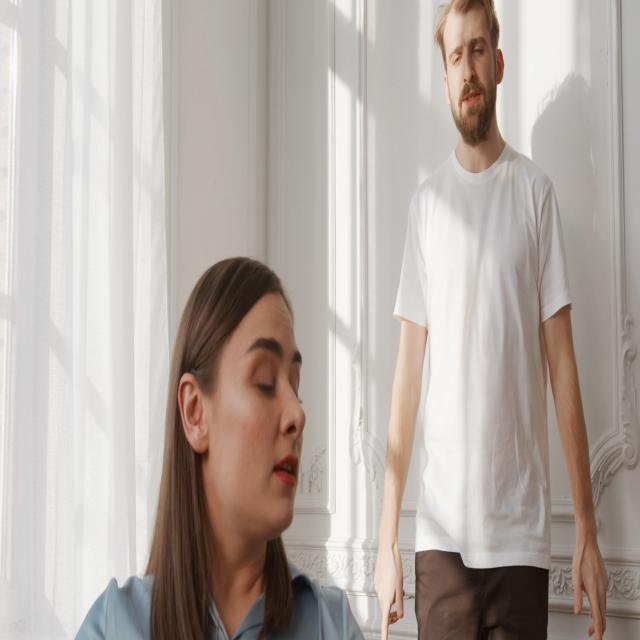satisfied: (181, 266, 332, 552)
stress: (426, 0, 511, 156)
